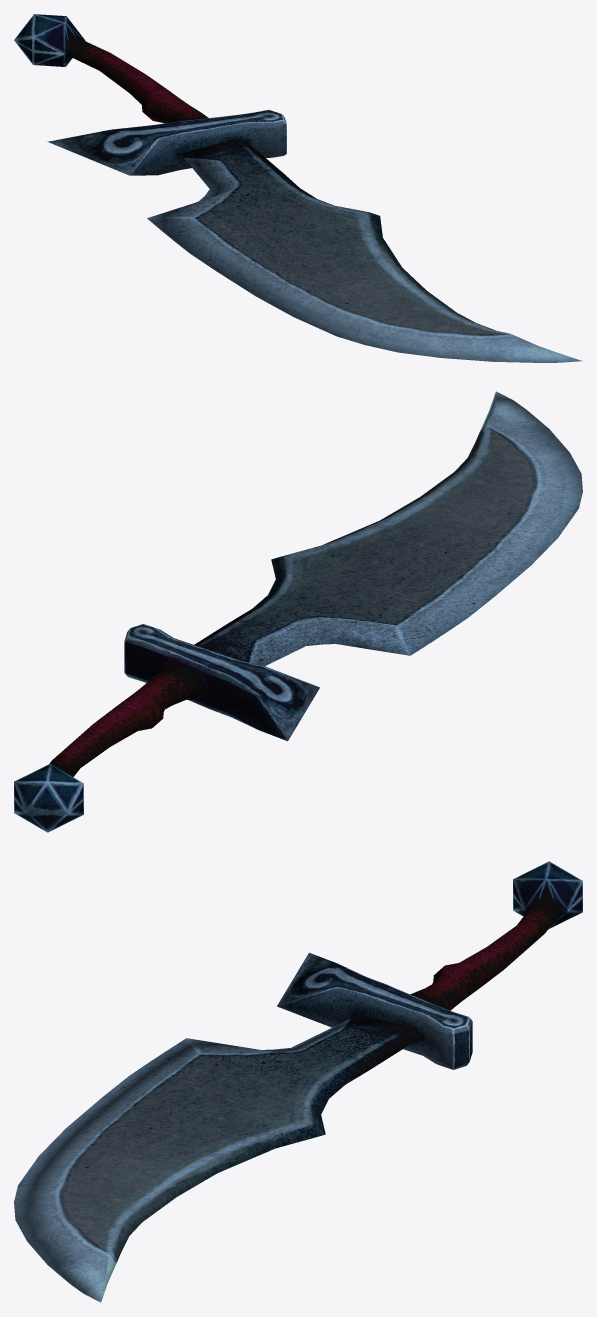
File: custom_dagger.obj
3 renders of one model, top to bottom at view 1: azimuth 30°, elevation 25°; view 2: azimuth 150°, elevation 25°; view 3: azimuth 330°, elevation 25°, orthographic. The views are drawn at different scales.
Visible parts, largest first — view 1: Model; view 2: Model; view 3: Model.
Boxes of the visible parts, x1,y1,x2,y2 form: Model: (14, 14, 582, 362); Model: (14, 391, 582, 832); Model: (14, 861, 582, 1302).
Size of the model in its own units: 17.25 by 3.72 by 72.97.
Materials: 1 (1 with a texture image).
